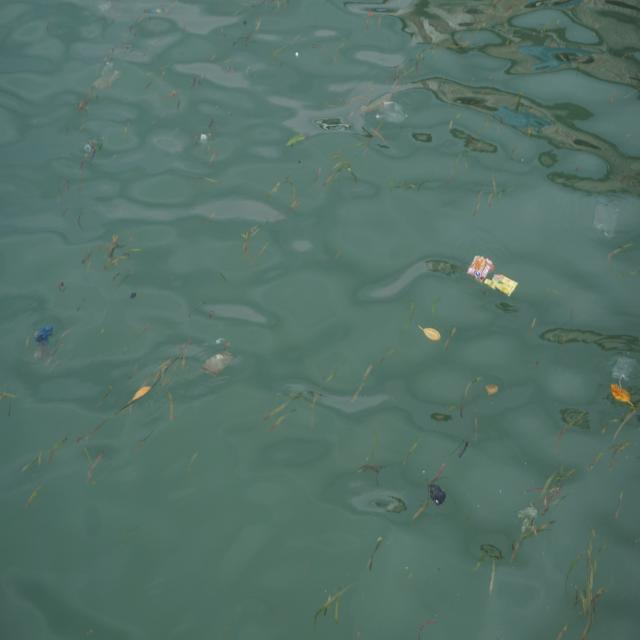Bungkus Makanan: (485, 266, 522, 307), (467, 249, 495, 289)
Kantong Plastik: (593, 196, 622, 245), (609, 346, 639, 391), (429, 476, 449, 514)
